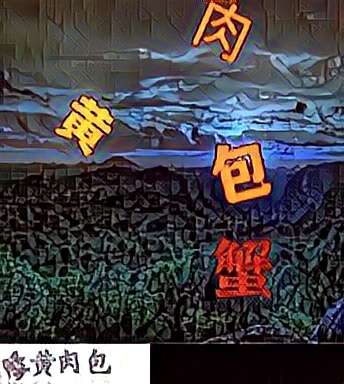B0FC: (212, 142, 274, 206)
BBC6: (54, 91, 116, 155)
C8E2: (190, 2, 252, 66)
D0B7: (209, 234, 271, 298)
